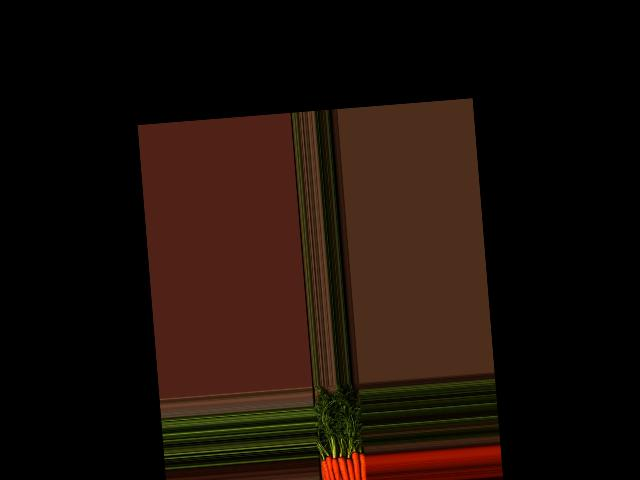carrot: (356, 450, 369, 480)
